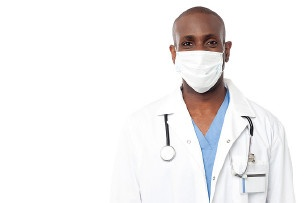Mask: (172, 31, 229, 89)
